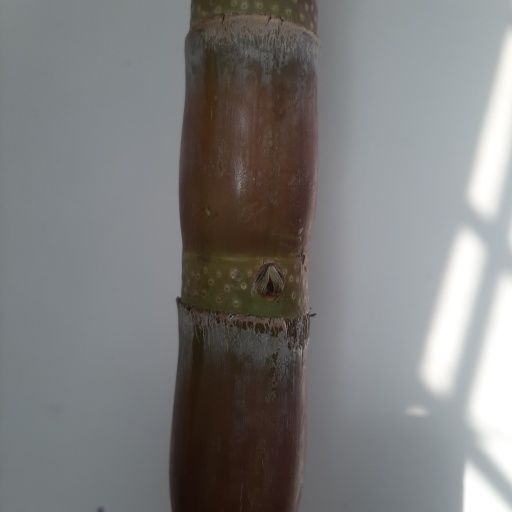Bud: (254, 263, 285, 300)
